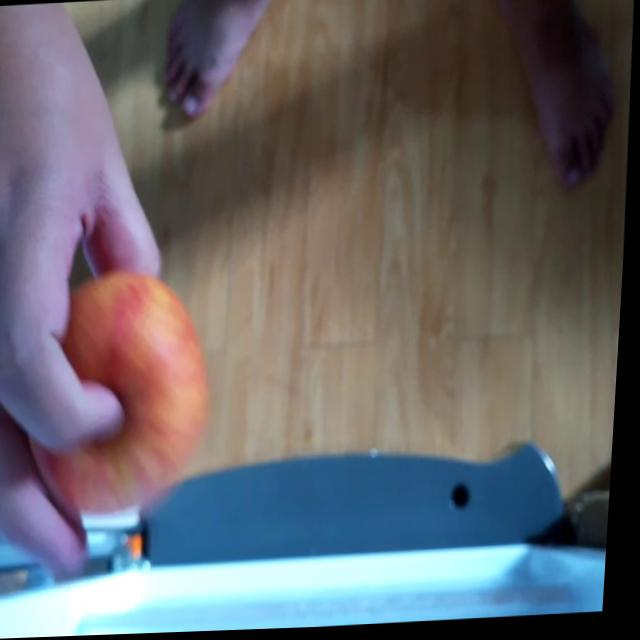apple: (22, 263, 215, 520)
